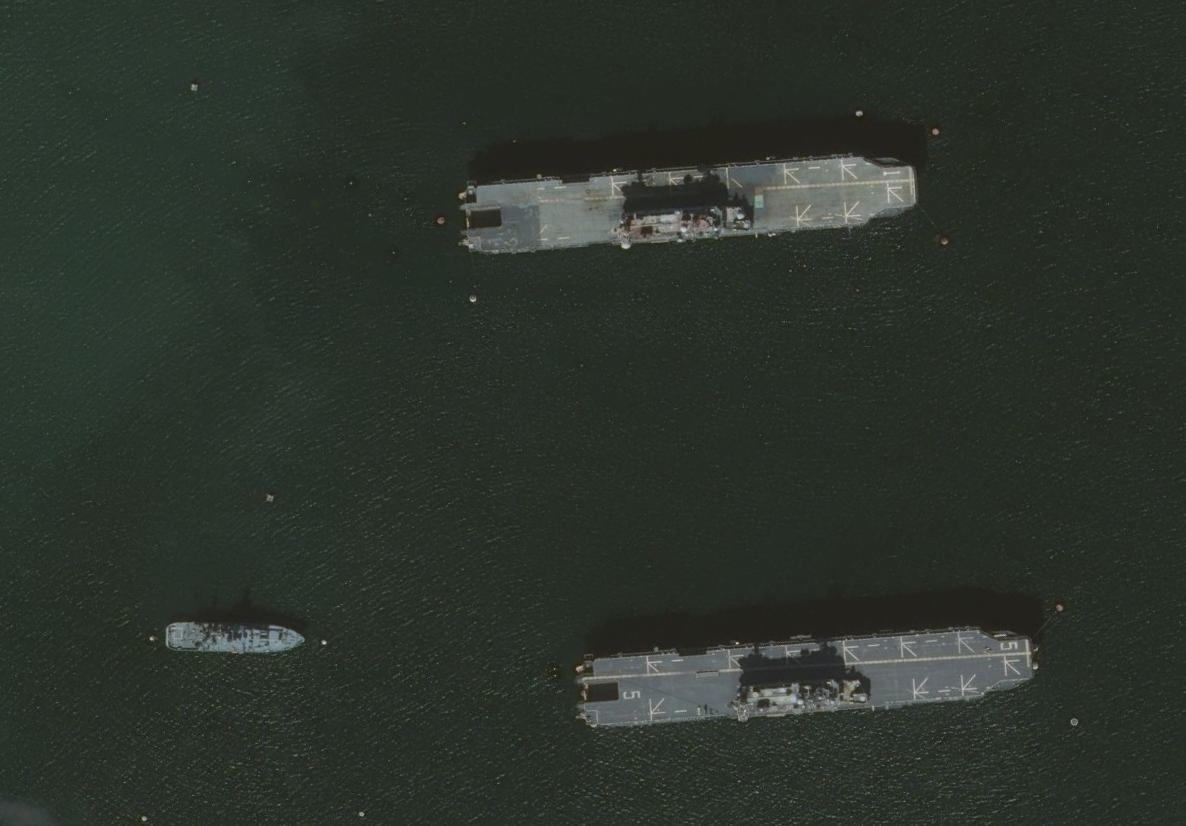pha: (574, 615, 1040, 743), (453, 147, 926, 263)
